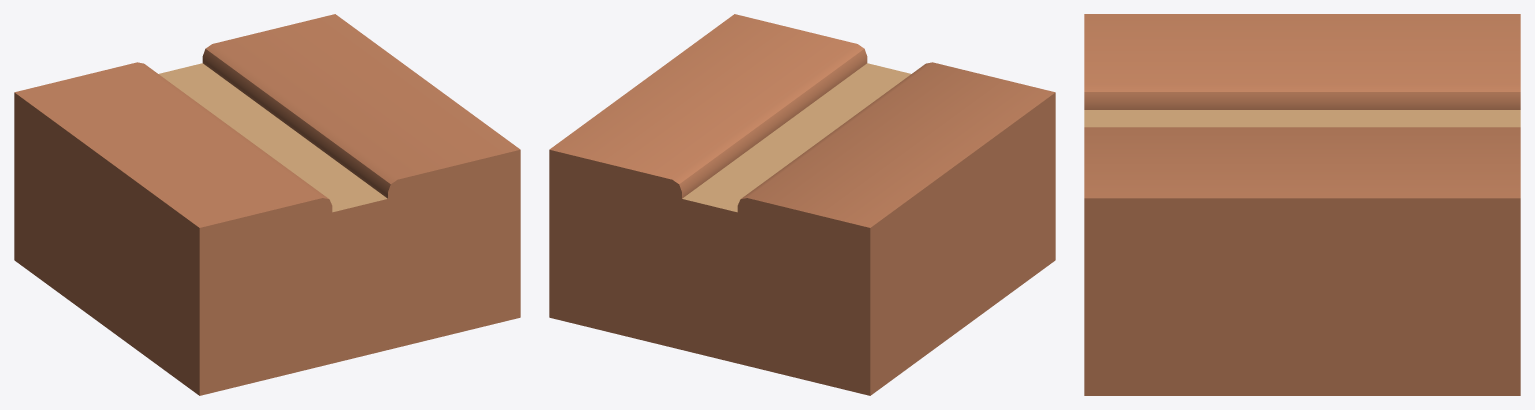
The model's file is square_rock_roadB.glb.
3 views of the same model, side by side, from view 1: azimuth 30°, elevation 25°; view 2: azimuth 150°, elevation 25°; view 3: azimuth 270°, elevation 25° (orthographic). The views are drawn at different scales.
Parts seen in each view (by area): view 1: square_rock_roadB; view 2: square_rock_roadB; view 3: square_rock_roadB.
Part boxes in pixels (<box>): square_rock_roadB: <box>14,14,520,395</box>; square_rock_roadB: <box>549,14,1055,395</box>; square_rock_roadB: <box>1084,14,1520,395</box>.
Bounding box in the file's own units: 2 × 1 × 2.
